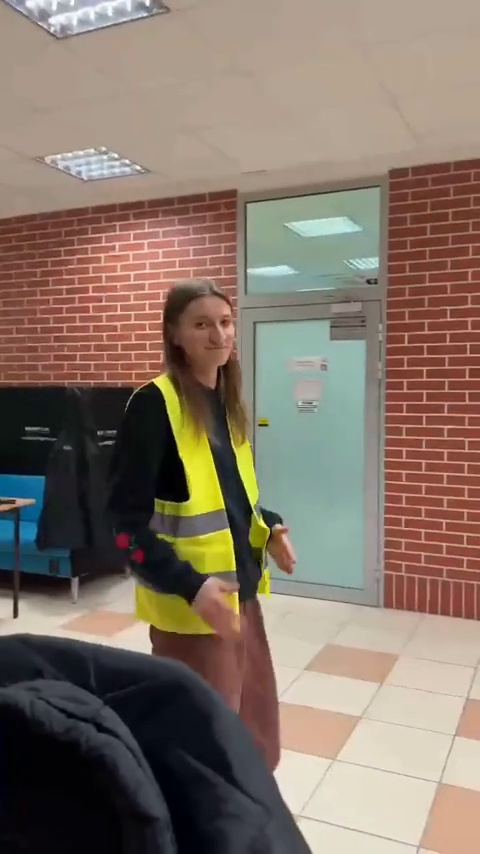vest: (103, 274, 319, 710)
